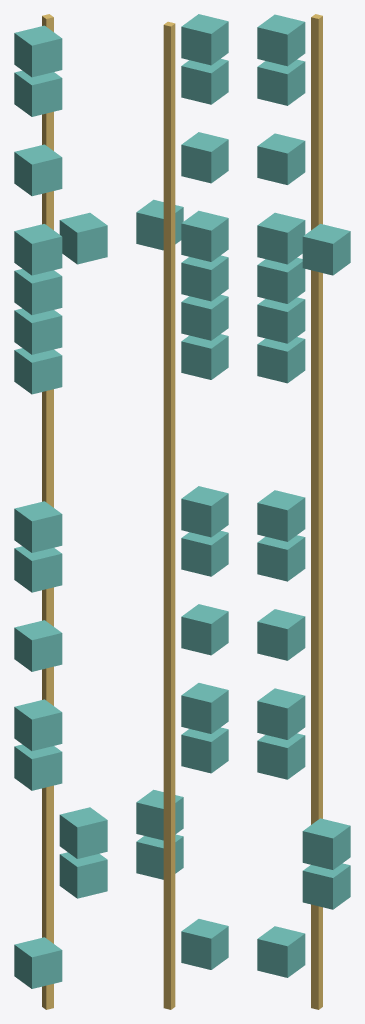
Rendered from CODEX.gltf.
The picture shows the model from 3 angles, left to right: view 1: azimuth 30°, elevation 25°; view 2: azimuth 150°, elevation 25°; view 3: azimuth 330°, elevation 25°; orthographic projection.
Visible parts, largest first — view 1: plane0.stroke1, C.low.dot1, E.low.dot3, D.low.dot3, E.low.dot1, X.low.dot4, C.low.dot7, X.low.dot7, O.low.dot1, O.low.dot4, O.low.dot7, C.low.dot2 (+5 smaller); view 2: plane0.stroke1, C.low.dot1, O.low.dot1, X.low.dot7, C.low.dot7, D.low.dot3, E.low.dot1, E.low.dot3, O.low.dot2, C.low.dot2, O.low.dot3, D.low.dot7 (+5 smaller); view 3: plane0.stroke1, E.low.dot1, X.low.dot4, C.low.dot1, E.low.dot3, D.low.dot3, C.low.dot7, O.low.dot4, X.low.dot7, O.low.dot1, D.low.dot7, O.low.dot7 (+5 smaller).
Boxes of the visible parts, x1,y1,x2,y2 form: plane0.stroke1: [42, 14, 53, 1009]; C.low.dot1: [14, 25, 62, 77]; E.low.dot3: [14, 699, 62, 750]; D.low.dot3: [14, 501, 62, 552]; E.low.dot1: [14, 620, 62, 671]; X.low.dot4: [59, 807, 107, 858]; C.low.dot7: [14, 144, 62, 196]; X.low.dot7: [14, 937, 62, 988]; O.low.dot1: [14, 224, 62, 275]; O.low.dot4: [59, 212, 107, 264]; O.low.dot7: [14, 348, 62, 394]; C.low.dot2: [14, 70, 62, 116]; plane0.stroke1: [163, 21, 175, 1009]; C.low.dot1: [181, 14, 228, 65]; O.low.dot1: [181, 210, 228, 261]; X.low.dot7: [181, 919, 228, 969]; C.low.dot7: [181, 132, 228, 183]; D.low.dot3: [181, 486, 228, 537]; E.low.dot1: [181, 604, 228, 655]; E.low.dot3: [181, 683, 228, 733]; O.low.dot2: [181, 255, 228, 301]; C.low.dot2: [181, 59, 228, 104]; O.low.dot3: [181, 295, 228, 340]; D.low.dot7: [181, 531, 228, 576]; plane0.stroke1: [311, 14, 322, 1009]; E.low.dot1: [257, 609, 305, 660]; X.low.dot4: [302, 818, 350, 869]; C.low.dot1: [257, 14, 305, 66]; E.low.dot3: [257, 688, 305, 739]; D.low.dot3: [257, 490, 305, 541]; C.low.dot7: [257, 133, 305, 184]; O.low.dot4: [302, 224, 350, 275]; X.low.dot7: [257, 926, 305, 977]; O.low.dot1: [257, 212, 305, 264]; D.low.dot7: [257, 535, 305, 581]; O.low.dot7: [257, 337, 305, 383].
Bounding box in the file's own units: 2 × 25 × 1.1.
